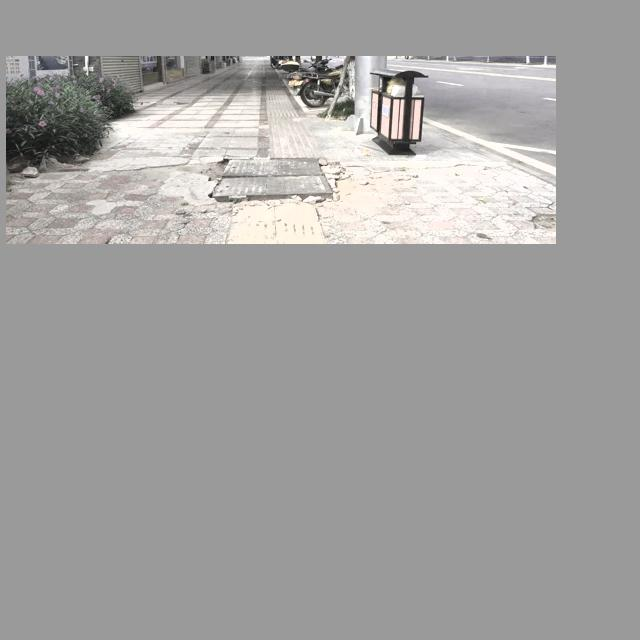circle: (187, 146, 368, 222)
